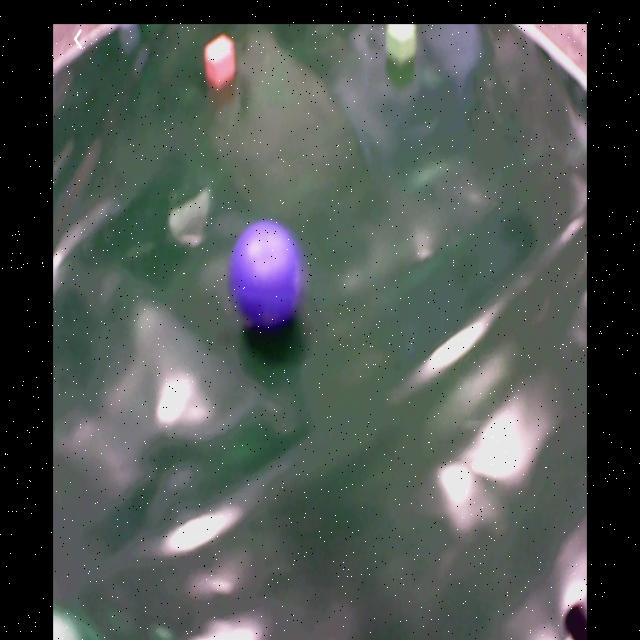ball: (227, 216, 303, 327)
